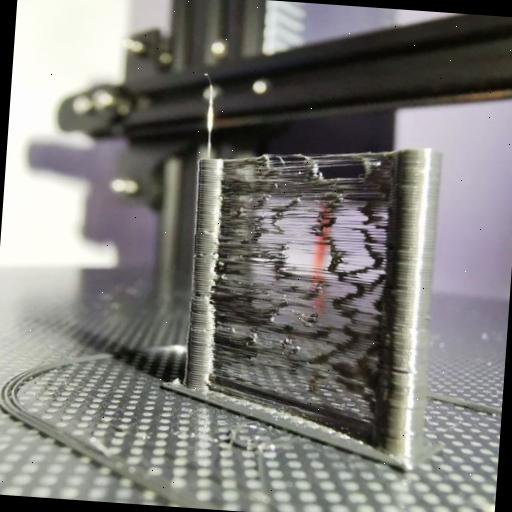stringing: (203, 134, 420, 412)
